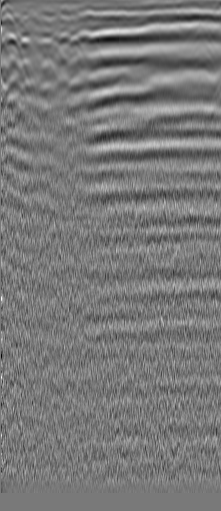오수: (22, 12, 42, 32)
우수: (173, 21, 193, 41)
